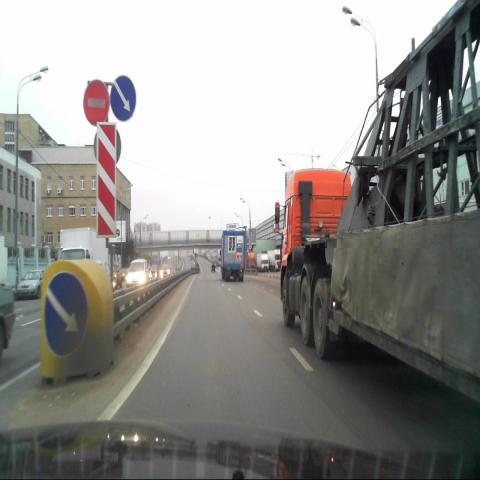3_1: (83, 81, 109, 126)
